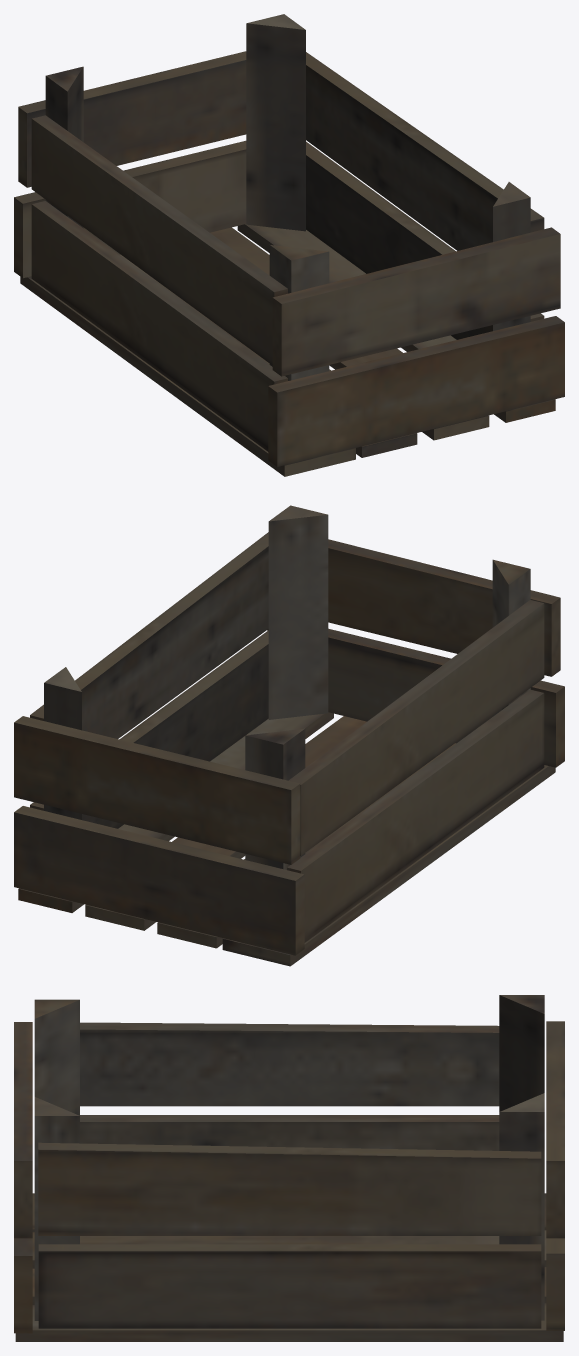
The model's file is bz_brk_crate_dmg01.fbx.
The picture shows the model from 3 angles, top to bottom: view 1: azimuth 30°, elevation 25°; view 2: azimuth 150°, elevation 25°; view 3: azimuth 270°, elevation 25°; orthographic projection. The views are drawn at different scales.
Visible parts, largest first — view 1: bz_brk_crate1_dmg03, bz_brk_crate1_dmg08, bz_brk_crate1_dmg04, bz_brk_crate1_dmg02, bz_brk_crate1_dmg01, bz_brk_crate1_dmg05, bz_brk_crate1_dmg07, bz_brk_crate1_dmg06; view 2: bz_brk_crate1_dmg04, bz_brk_crate1_dmg03, bz_brk_crate1_dmg08, bz_brk_crate1_dmg01, bz_brk_crate1_dmg02, bz_brk_crate1_dmg05, bz_brk_crate1_dmg07, bz_brk_crate1_dmg06; view 3: bz_brk_crate1_dmg08, bz_brk_crate1_dmg03, bz_brk_crate1_dmg04, bz_brk_crate1_dmg01, bz_brk_crate1_dmg06, bz_brk_crate1_dmg02.
Part boxes in pixels (<box>): bz_brk_crate1_dmg03: <box>31,115,329,451</box>; bz_brk_crate1_dmg08: <box>237,14,555,422</box>; bz_brk_crate1_dmg04: <box>14,51,246,278</box>; bz_brk_crate1_dmg02: <box>268,316,564,466</box>; bz_brk_crate1_dmg01: <box>272,227,560,376</box>; bz_brk_crate1_dmg05: <box>20,276,355,476</box>; bz_brk_crate1_dmg07: <box>210,227,489,440</box>; bz_brk_crate1_dmg06: <box>119,254,417,457</box>; bz_brk_crate1_dmg04: <box>14,716,305,955</box>; bz_brk_crate1_dmg03: <box>287,559,544,942</box>; bz_brk_crate1_dmg08: <box>18,505,333,912</box>; bz_brk_crate1_dmg01: <box>328,539,560,676</box>; bz_brk_crate1_dmg02: <box>267,628,564,767</box>; bz_brk_crate1_dmg05: <box>222,765,555,966</box>; bz_brk_crate1_dmg07: <box>85,716,366,930</box>; bz_brk_crate1_dmg06: <box>157,743,456,948</box>; bz_brk_crate1_dmg08: <box>15,1093,563,1341</box>; bz_brk_crate1_dmg03: <box>34,999,499,1150</box>; bz_brk_crate1_dmg04: <box>499,995,564,1330</box>; bz_brk_crate1_dmg01: <box>14,1022,32,1238</box>; bz_brk_crate1_dmg06: <box>32,1230,546,1268</box>; bz_brk_crate1_dmg02: <box>14,1238,32,1333</box>.
Bounding box in the file's own units: 0.5252 × 0.373 × 0.8403.
